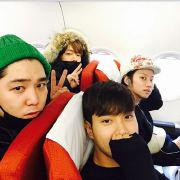NONE: (93, 108, 139, 157), (134, 71, 154, 99), (62, 48, 83, 74)
WRONG: (1, 73, 50, 124)
